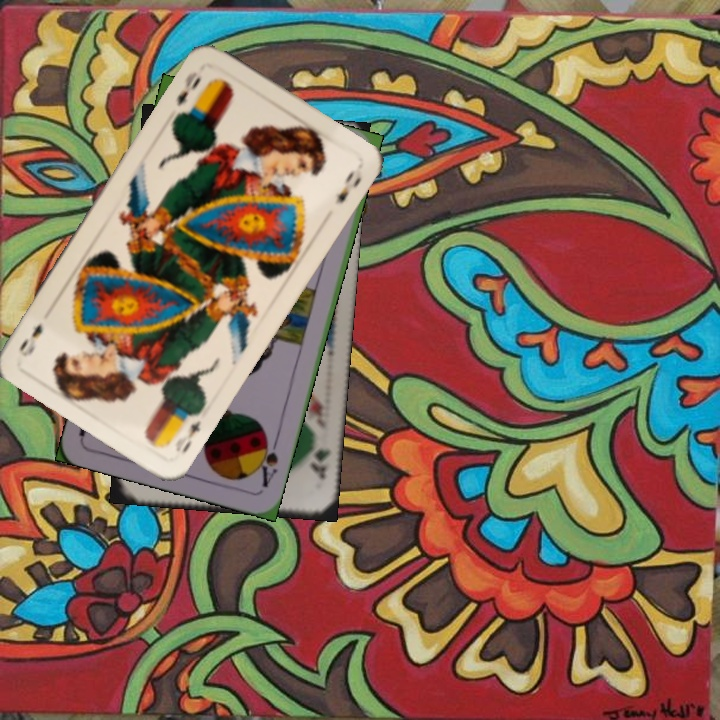EO: (171, 407, 204, 456), (172, 67, 204, 109)
GK: (306, 444, 334, 481)
SA: (252, 430, 281, 490)
